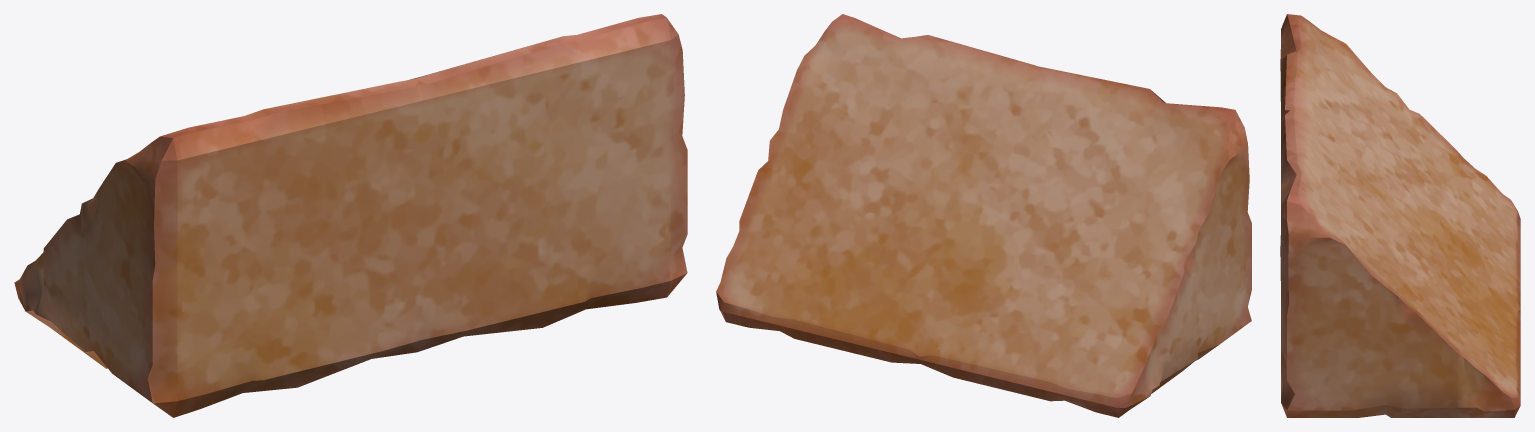
Rendered from sand_slope.fbx.
3 views of the same model, side by side, from view 1: azimuth 30°, elevation 25°; view 2: azimuth 150°, elevation 25°; view 3: azimuth 270°, elevation 25° (orthographic). The views are drawn at different scales.
Visible parts, largest first — view 1: desert_slope; view 2: desert_slope; view 3: desert_slope.
Part boxes in pixels (box(x1,y1,x2,y2)): desert_slope: box(14, 14, 687, 417); desert_slope: box(716, 14, 1251, 417); desert_slope: box(1280, 14, 1520, 417).
Bounding box in the file's own units: 200 × 100 × 100.
